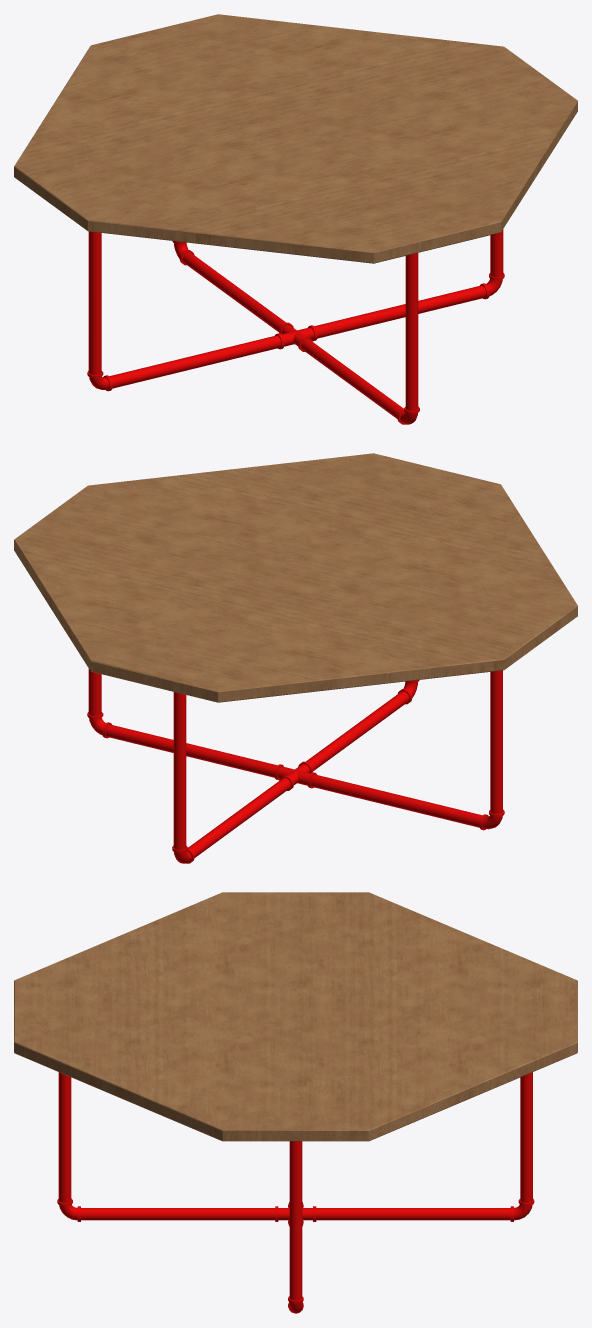
Rendered from RoundTable.fbx.
3 renders of one model, top to bottom at view 1: azimuth 30°, elevation 25°; view 2: azimuth 150°, elevation 25°; view 3: azimuth 270°, elevation 25°, orthographic.
Parts seen in each view (by area): view 1: RoundTable; view 2: RoundTable; view 3: RoundTable.
Part boxes in pixels (x1,y1,x2,y2): RoundTable: [14, 14, 577, 424]; RoundTable: [14, 453, 577, 863]; RoundTable: [14, 892, 577, 1313].
Bounding box in the file's own units: 113 × 46.6 × 113.
